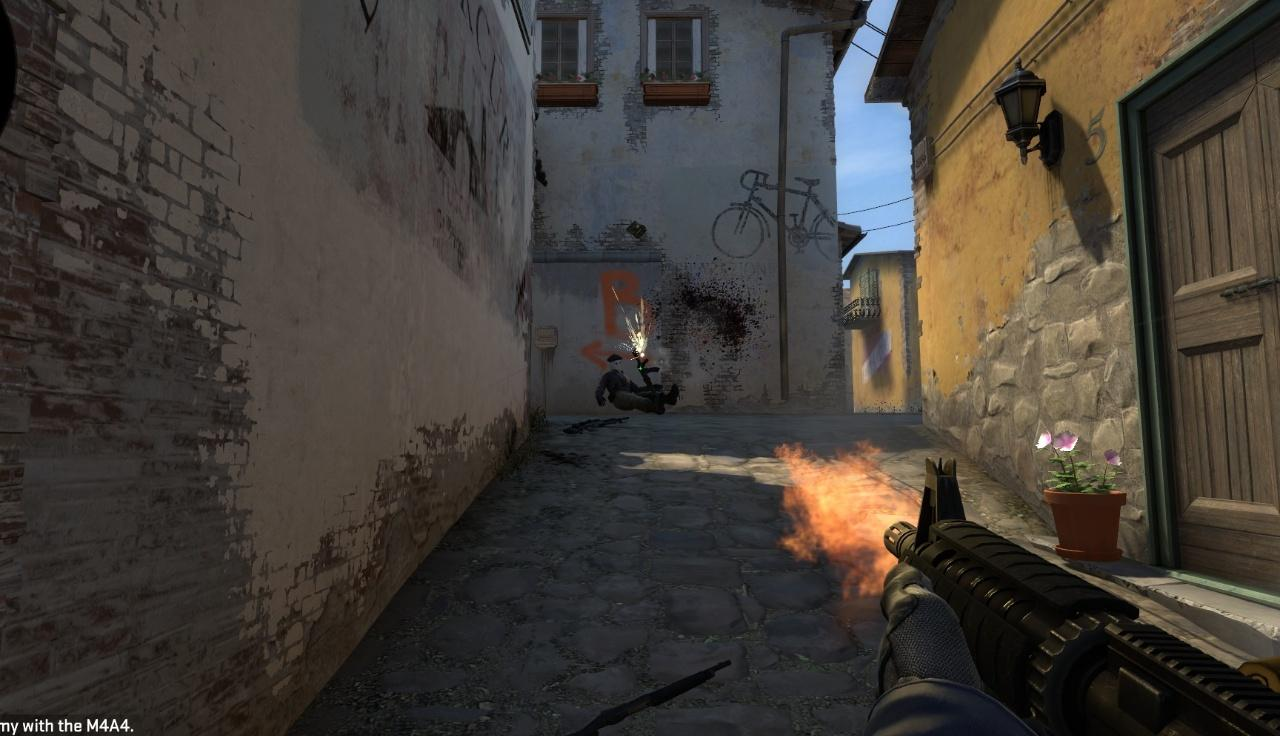rifle: (880, 448, 1277, 736)
